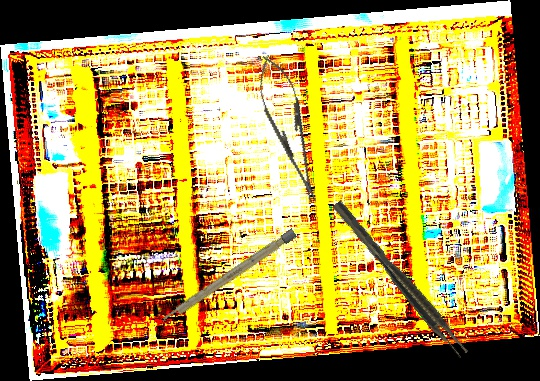Needle Holder: (248, 50, 330, 208)
Scalpel Handle: (159, 228, 298, 326)
Tissue Forceps: (332, 196, 470, 361)
